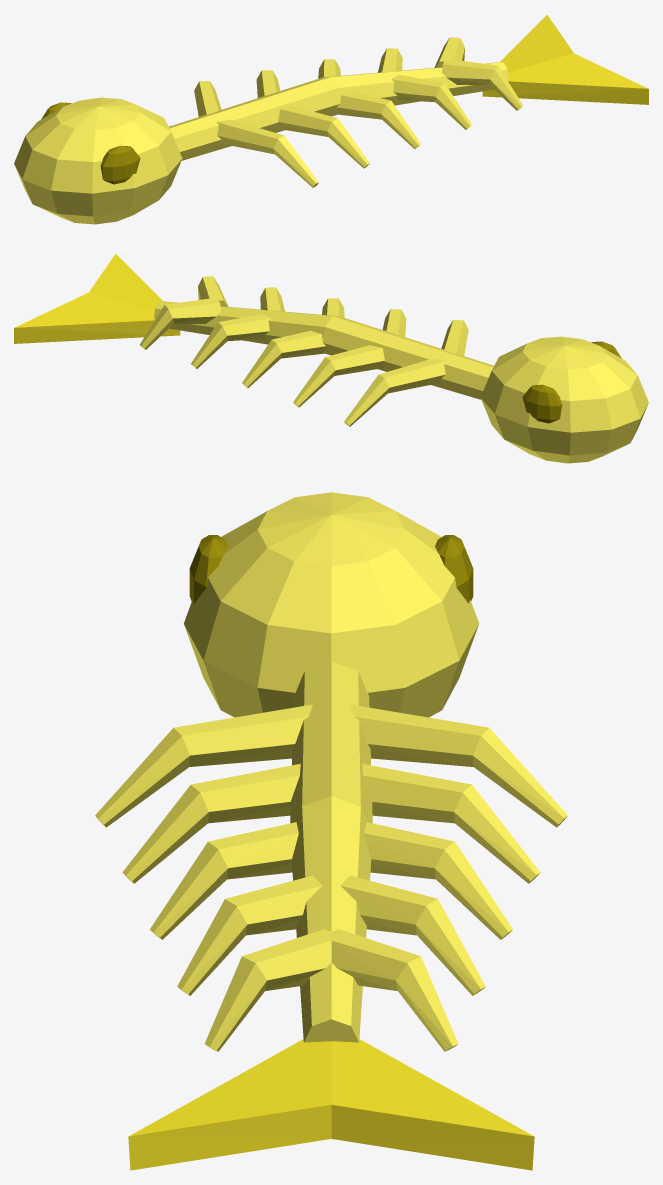
Rendered from Food_FishBones.fbx.
3 renders of one model, top to bottom at view 1: azimuth 30°, elevation 25°; view 2: azimuth 150°, elevation 25°; view 3: azimuth 270°, elevation 25°, orthographic. The views are drawn at different scales.
Visible parts, largest first — view 1: Food_FishBones; view 2: Food_FishBones; view 3: Food_FishBones.
Part boxes in pixels (x1,y1,x2,y2): Food_FishBones: [14, 15, 648, 224]; Food_FishBones: [14, 254, 648, 463]; Food_FishBones: [95, 492, 567, 1170].
Bounding box in the file's own units: 120 × 21.64 × 42.62.
